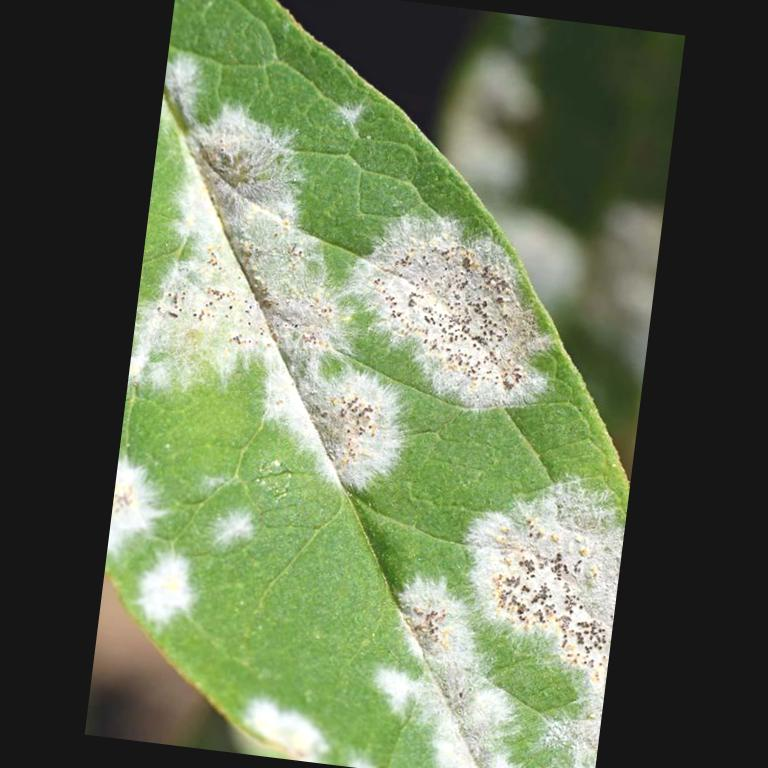powdery-mildew: (349, 450, 626, 768), (146, 149, 369, 420)
